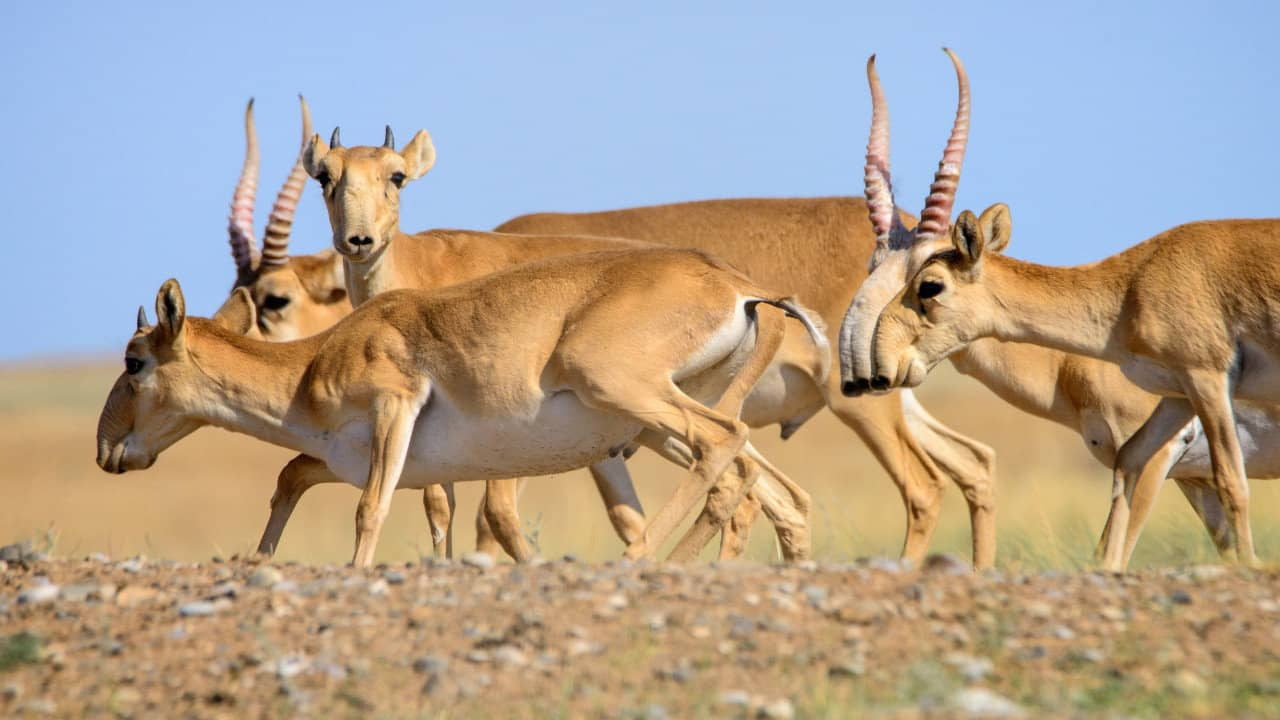saiga: (90, 240, 827, 554)
